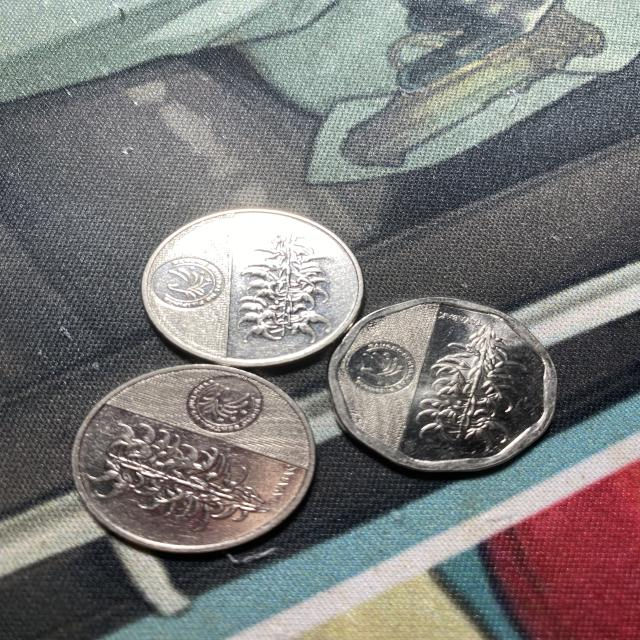5_New_Back: (88, 424, 258, 524), (410, 319, 520, 443), (238, 220, 331, 336)
